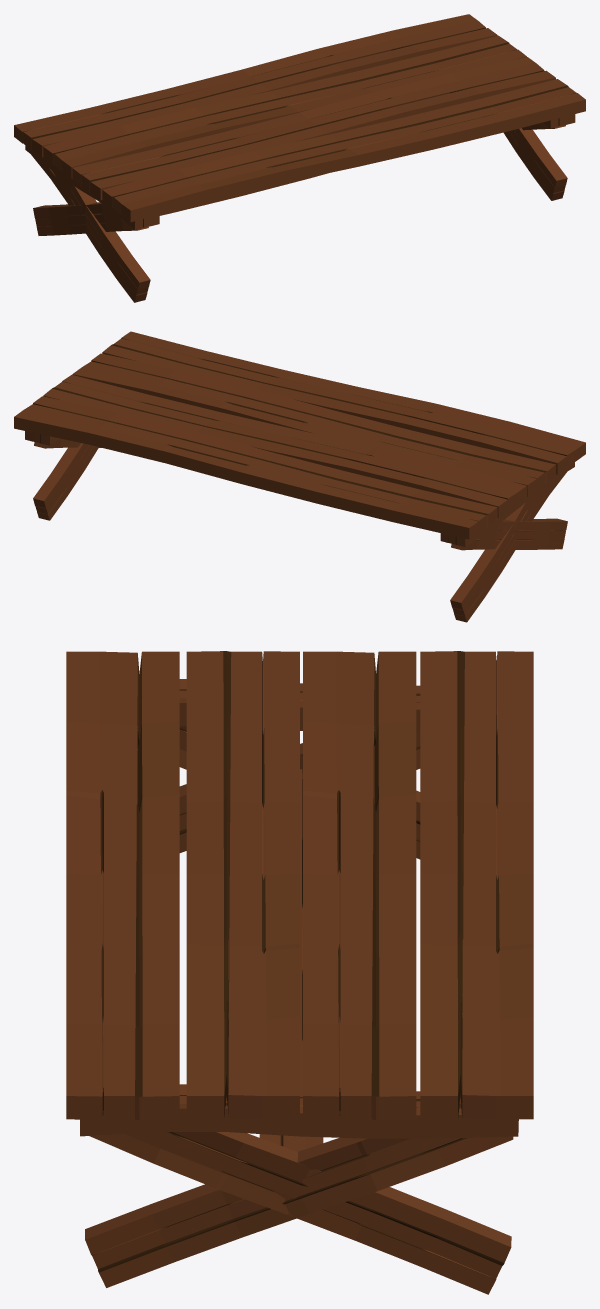
The model's file is WoodenTable.fbx.
3 views of the same model, one above another, from view 1: azimuth 30°, elevation 25°; view 2: azimuth 150°, elevation 25°; view 3: azimuth 270°, elevation 25° (orthographic). The views are drawn at different scales.
Visible parts, largest first — view 1: Cube; view 2: Cube; view 3: Cube.
Part boxes in pixels (x1,y1,x2,y2): Cube: [14, 14, 585, 302]; Cube: [14, 331, 585, 622]; Cube: [66, 651, 533, 1294].
Size of the model in its own units: 1200 by 272 by 532.
